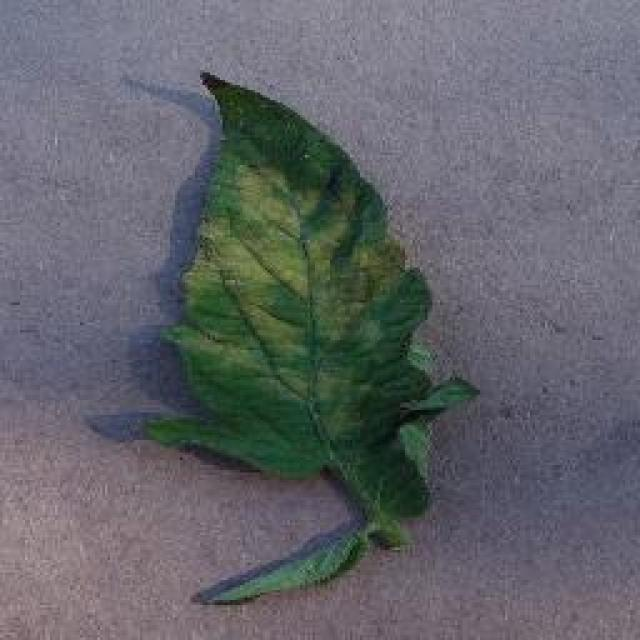Tom_Leaf_Mold: (195, 144, 409, 345)
